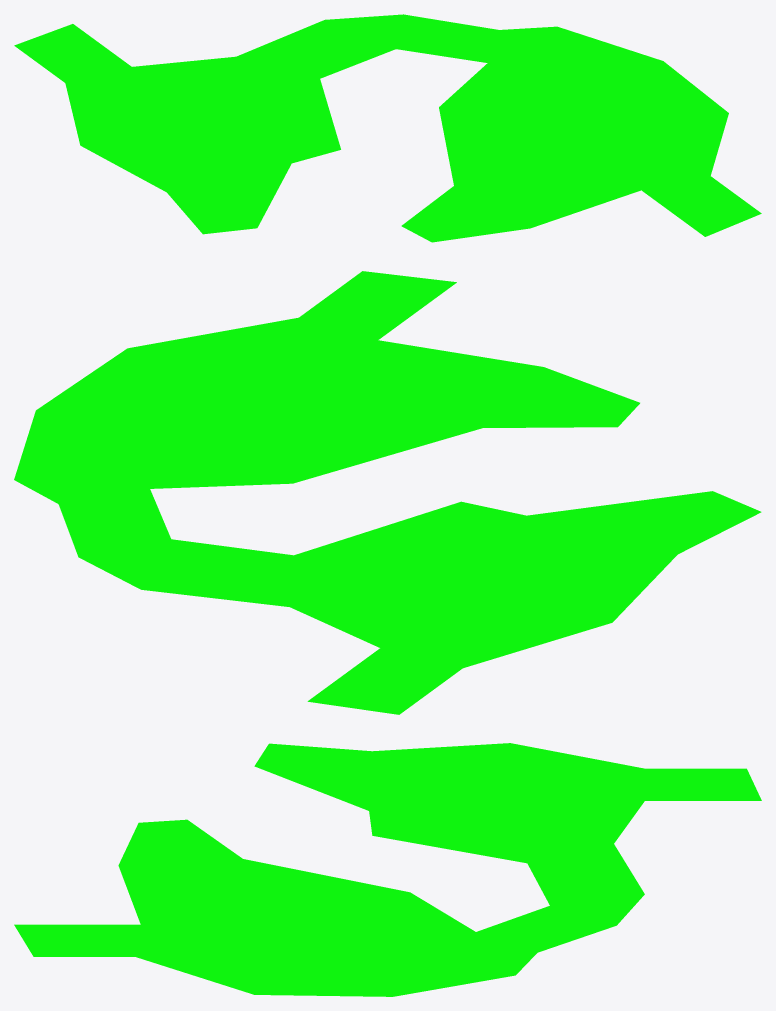
The model's file is s01a_ib2-floor.glb.
The picture shows the model from 3 angles, top to bottom: view 1: azimuth 30°, elevation 25°; view 2: azimuth 150°, elevation 25°; view 3: azimuth 270°, elevation 25°; orthographic projection. The views are drawn at different scales.
Visible parts, largest first — view 1: collision_floor-colonly; view 2: collision_floor-colonly; view 3: collision_floor-colonly.
Part boxes in pixels (x1=…): collision_floor-colonly: x1=14, y1=14, x2=761, y2=242; collision_floor-colonly: x1=14, y1=271, x2=761, y2=714; collision_floor-colonly: x1=14, y1=743, x2=761, y2=996.
Bounding box in the file's own units: 47.16 × 0 × 58.73.
